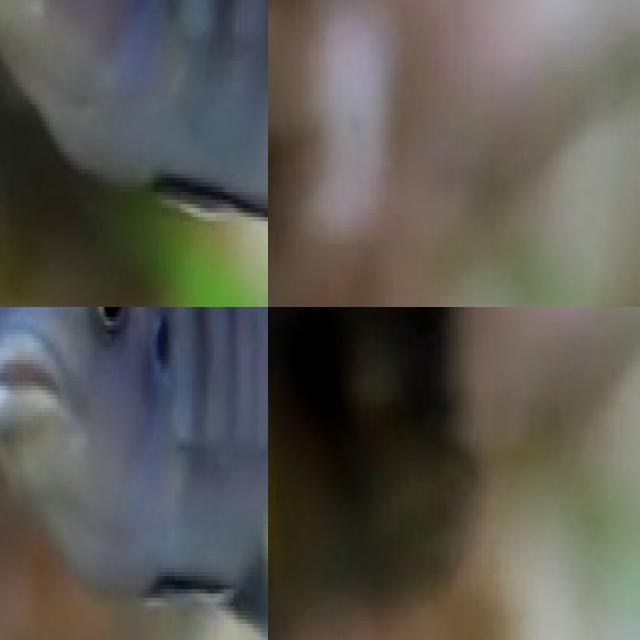fish: (0, 0, 268, 307)
